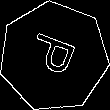P_E: (24, 30, 84, 83)
